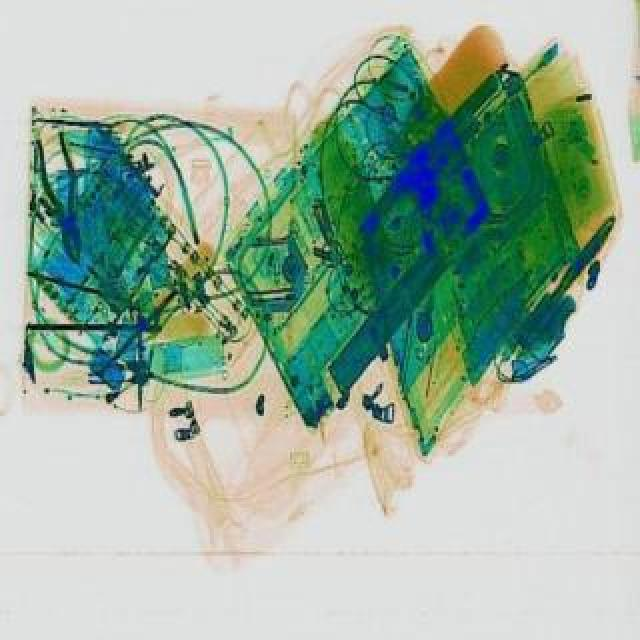wrench: (32, 134, 96, 272)
